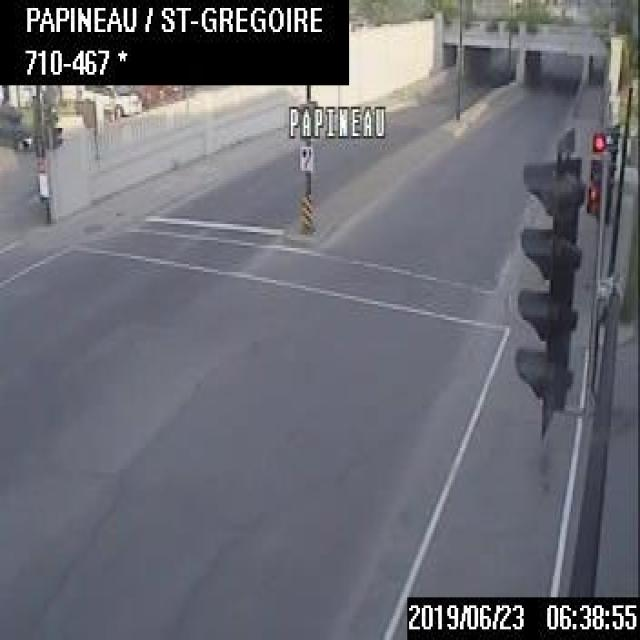vehicle: (77, 84, 144, 118), (0, 100, 31, 145)
